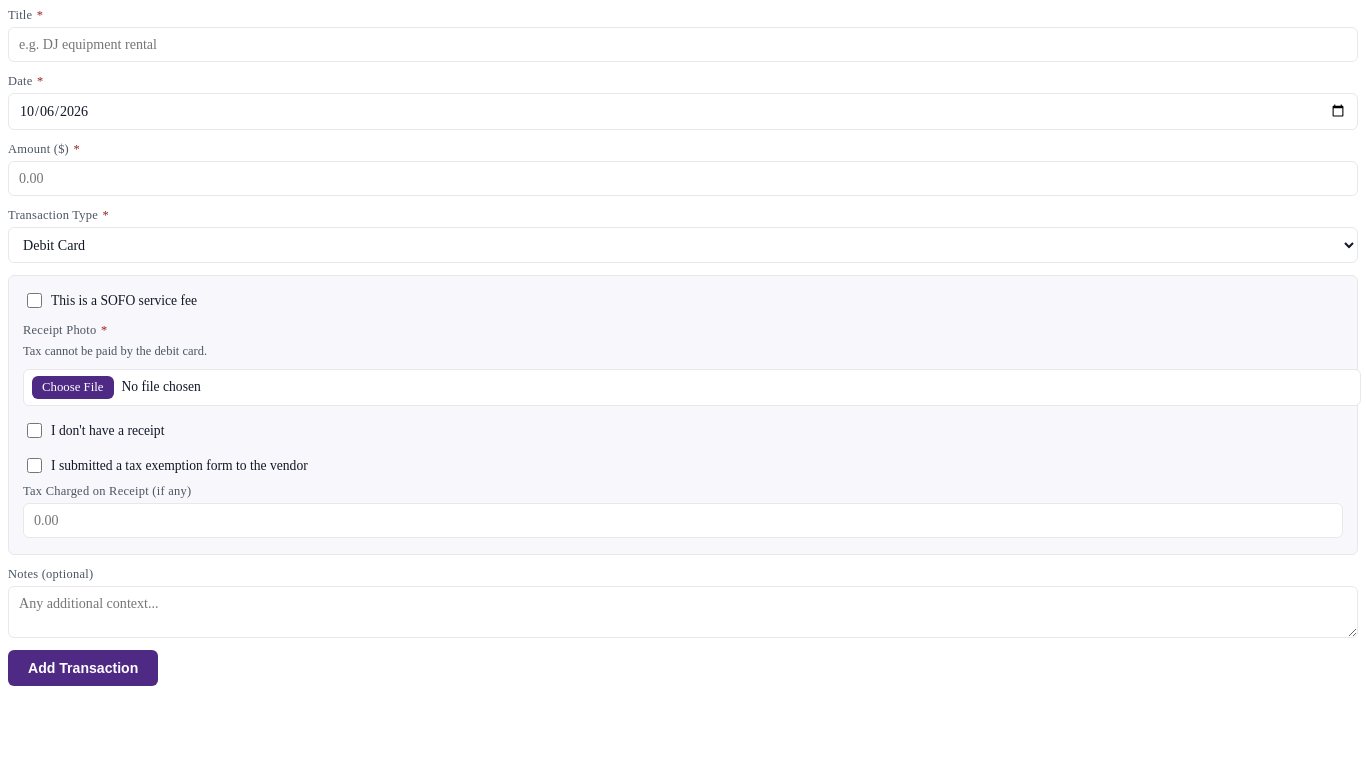
Test: AddTransactionForm › debit card purchases require a receipt or an acknowledgment
Type "Pizza" into the field labelled "Title *" at {"x": 683, "y": 44}, box [8,27,1358,62]
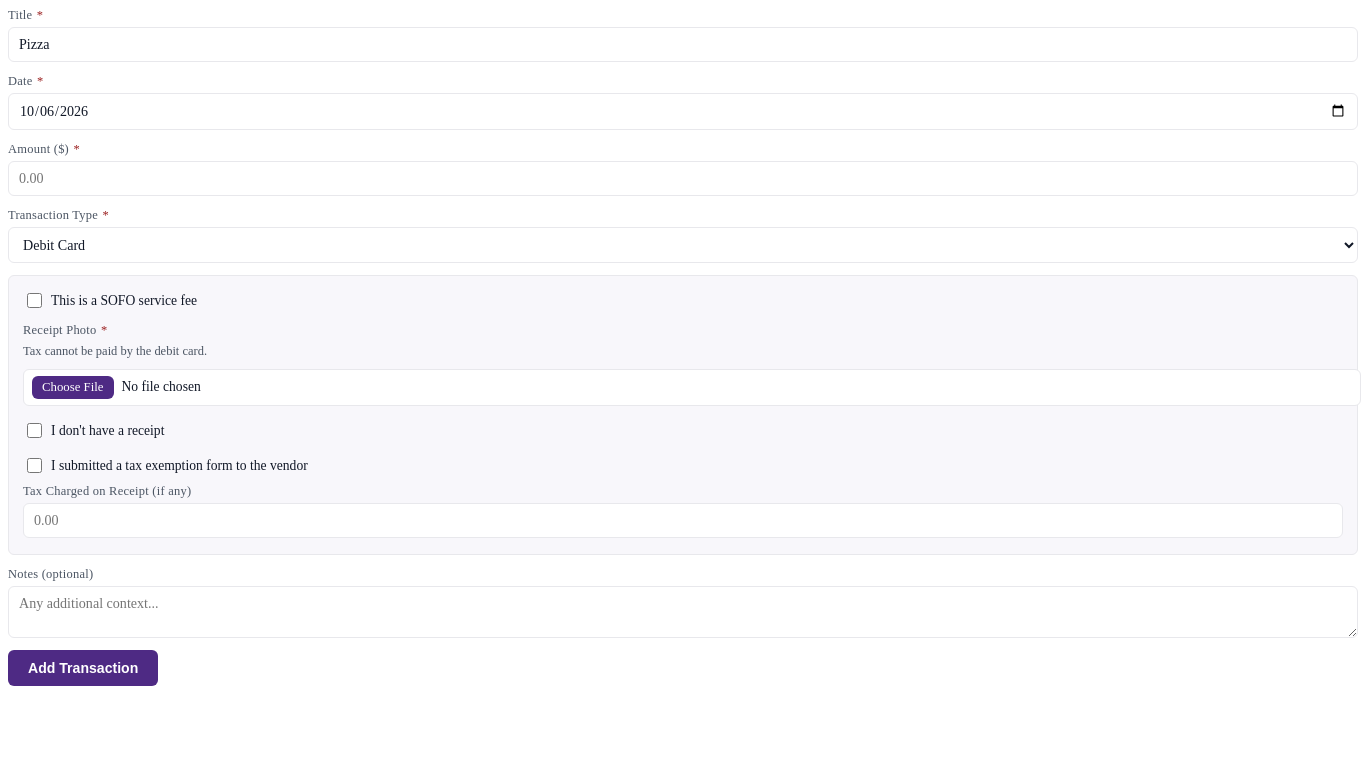
Type "12.50" into the field labelled "Amount ($) *" at {"x": 683, "y": 178}, box [8,161,1358,196]
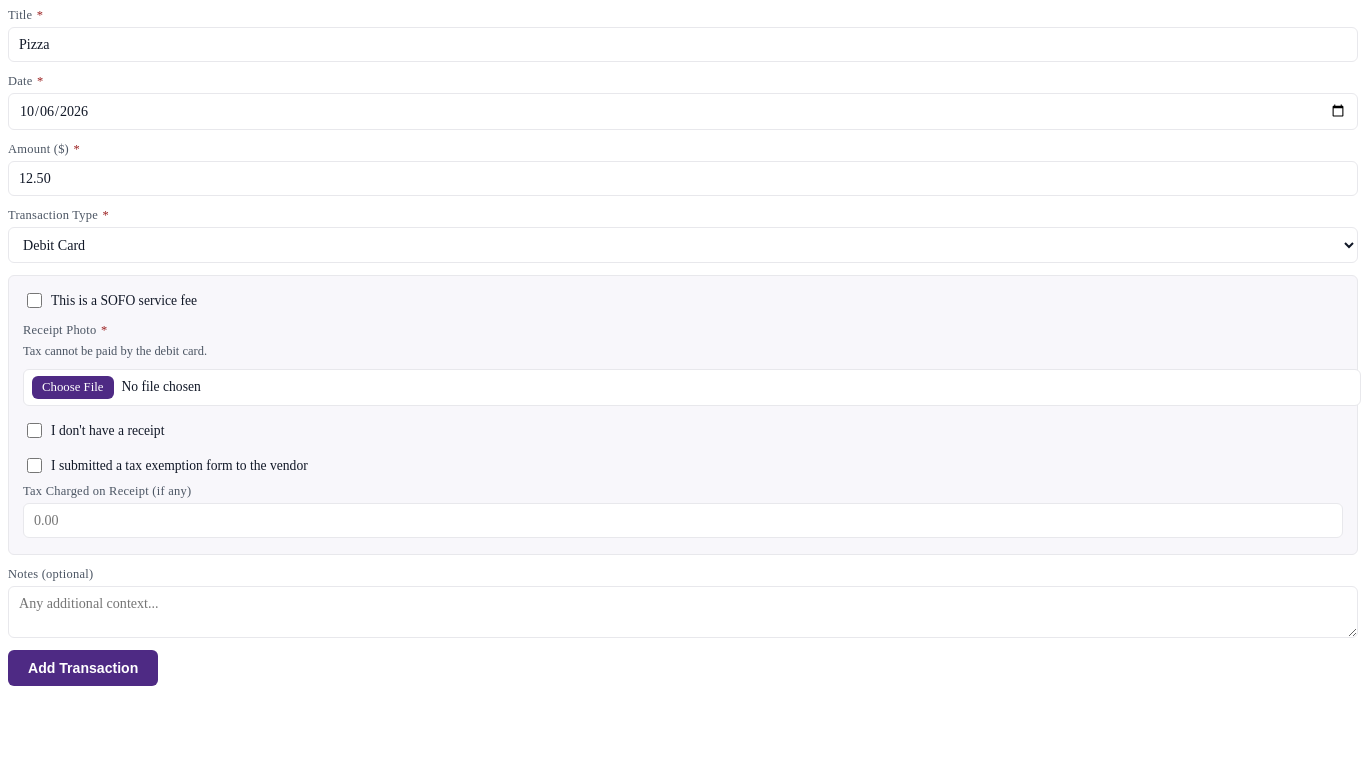
Click the button "Add Transaction" at {"x": 83, "y": 668}, box [8,650,158,686]
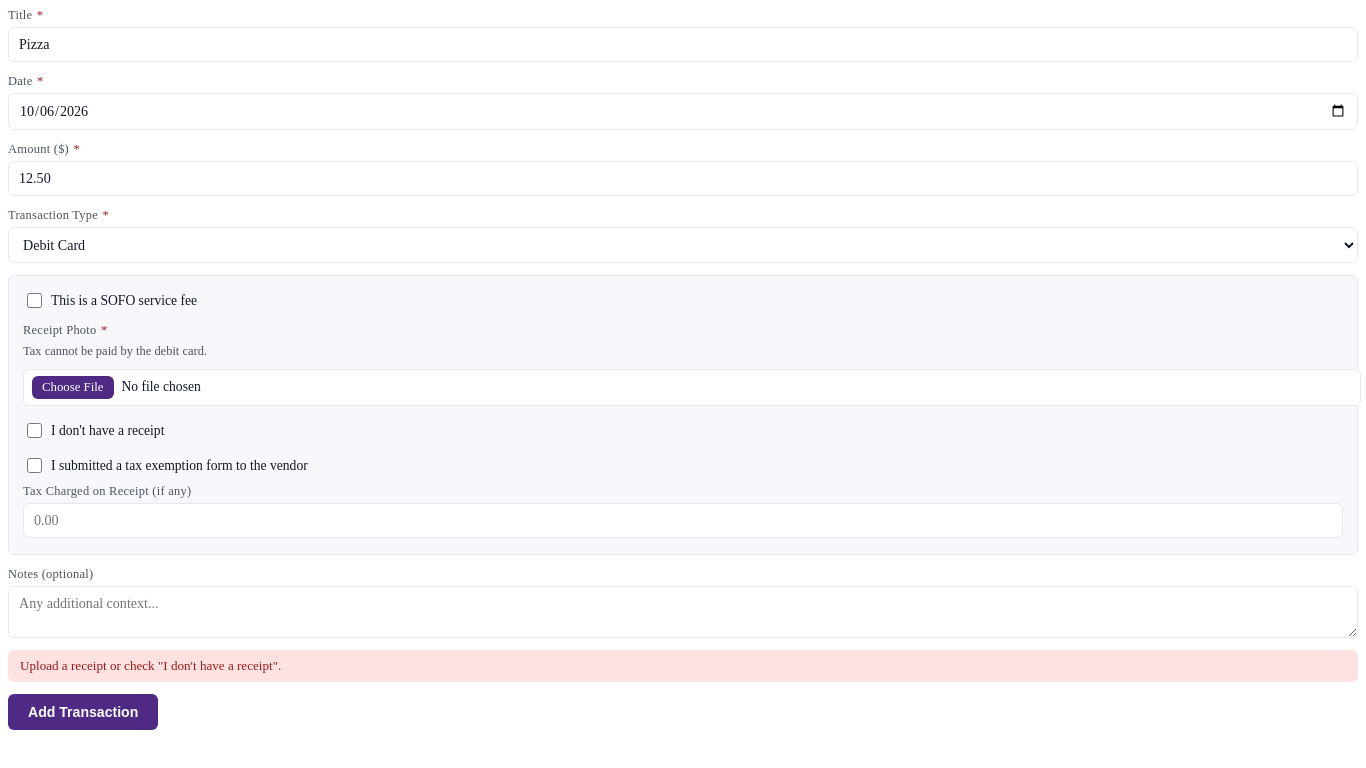
Now the message shows "Upload a receipt", box [20,658,281,673]
